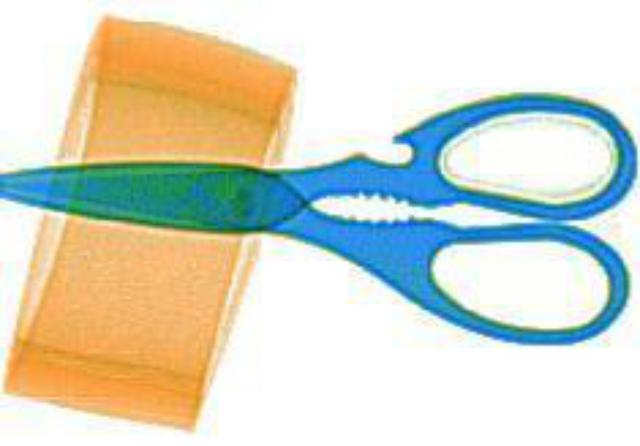Scissors: (1, 52, 636, 348)
